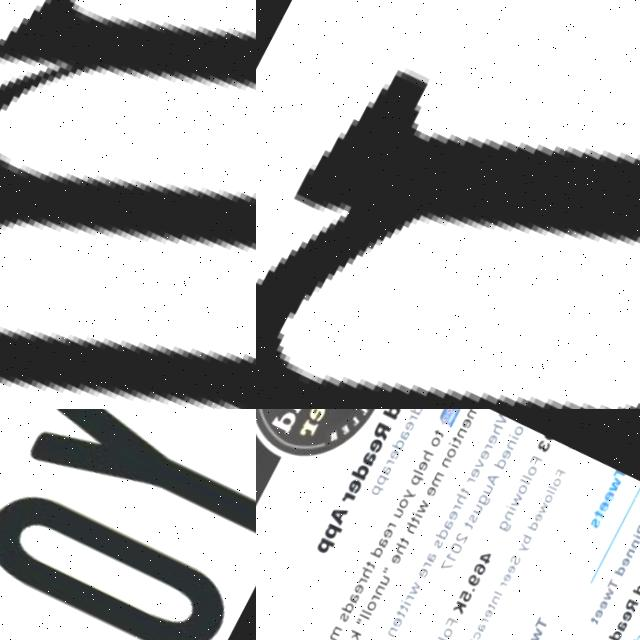0: (0, 465, 243, 640), (477, 559, 493, 575)
1: (457, 597, 472, 612)
2: (471, 569, 486, 586)
3: (438, 566, 453, 582)
5: (465, 581, 481, 596), (542, 444, 553, 451)
F: (66, 409, 256, 498)
M: (0, 0, 256, 409)
N: (256, 0, 640, 409)
Y: (19, 409, 256, 597)
